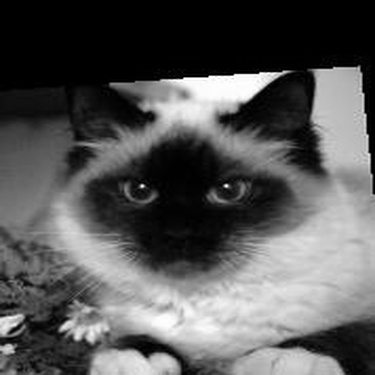cat: (38, 62, 365, 369)
